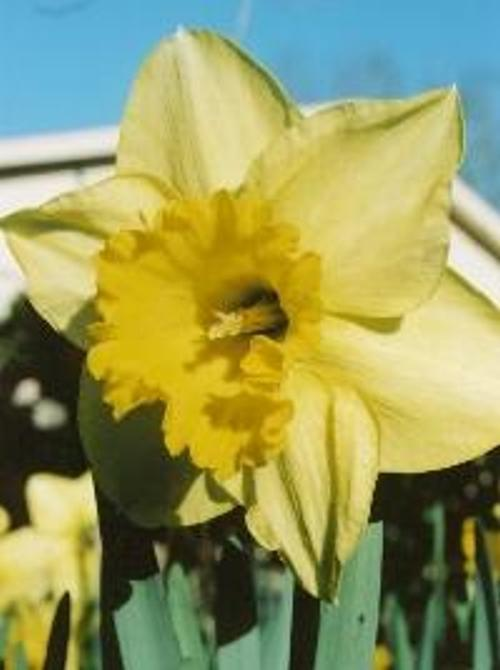flower1: (3, 24, 499, 605)
